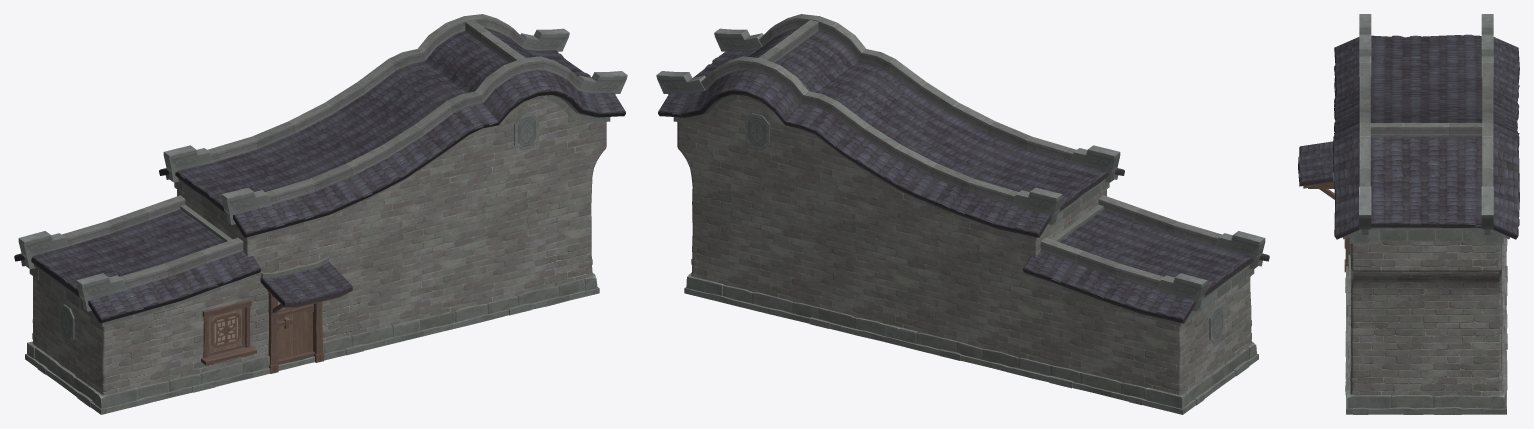
Rendered from Homeworld_Exterior_Cyg_Build_YlbHuishi_04_Lod0.fbx.
3 renders of one model, left to right at view 1: azimuth 30°, elevation 25°; view 2: azimuth 150°, elevation 25°; view 3: azimuth 270°, elevation 25°, orthographic. The views are drawn at different scales.
Parts seen in each view (by area): view 1: Area_Cyg_Build_QYZ_Comp_Huishi_H_01_Lod0; view 2: Area_Cyg_Build_QYZ_Comp_Huishi_H_01_Lod0; view 3: Area_Cyg_Build_QYZ_Comp_Huishi_H_01_Lod0.
Part boxes in pixels (bbox=[...]): Area_Cyg_Build_QYZ_Comp_Huishi_H_01_Lod0: bbox=[14, 14, 627, 414]; Area_Cyg_Build_QYZ_Comp_Huishi_H_01_Lod0: bbox=[656, 14, 1269, 414]; Area_Cyg_Build_QYZ_Comp_Huishi_H_01_Lod0: bbox=[1298, 14, 1519, 414].
Size of the model in its own units: 18.25 by 7.75 by 6.07.
